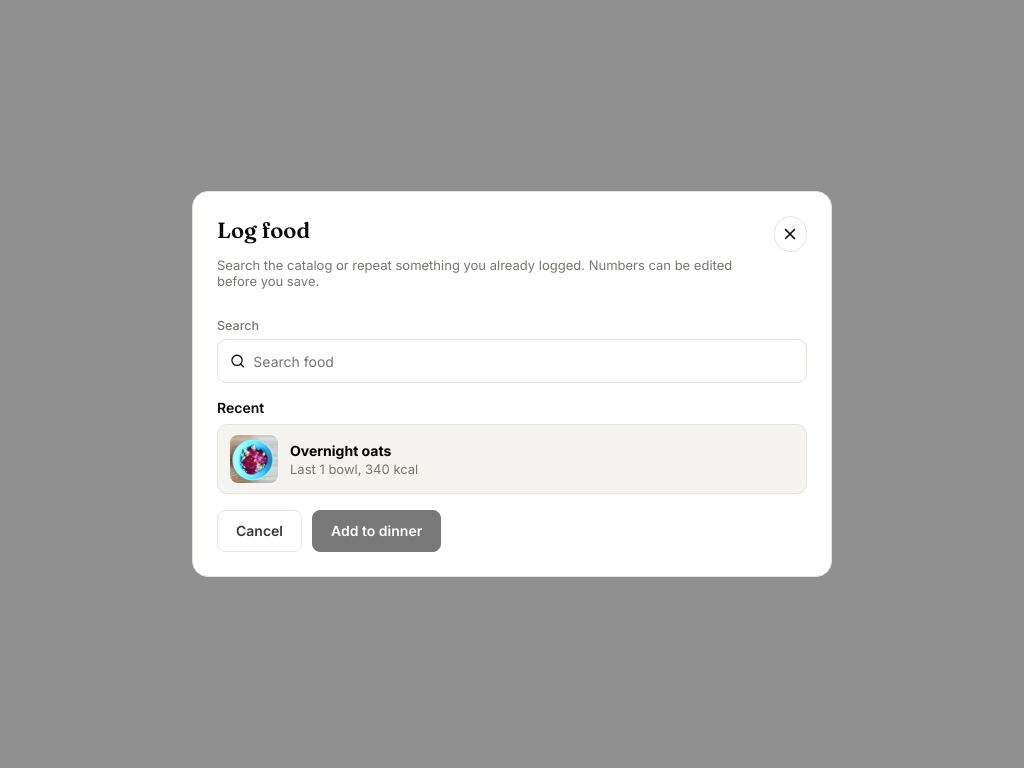
FoodLogger › uses the meal slot the user opened from Today
Click the button "Overnight oats Last 1 bowl, 340 kcal" at (254, 459), box [217, 424, 807, 494]
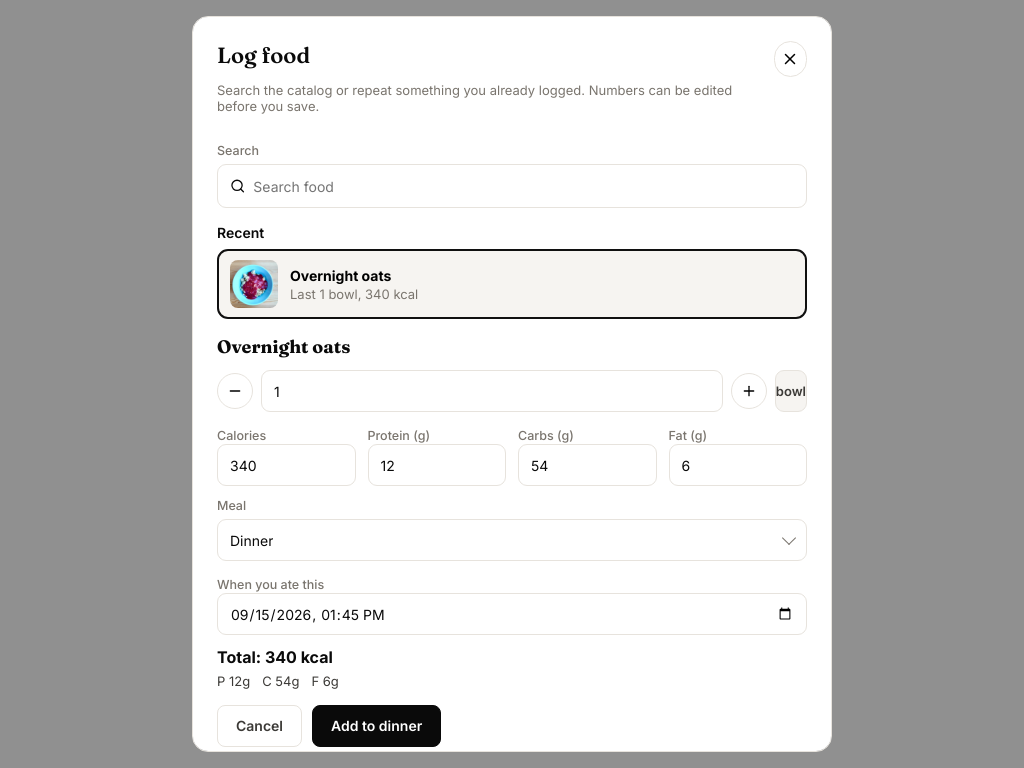
Expected: the button "Add to dinner" is shown, [312, 705, 441, 747]
Expected: the button named "meal" reads "Dinner", [217, 519, 807, 561]
